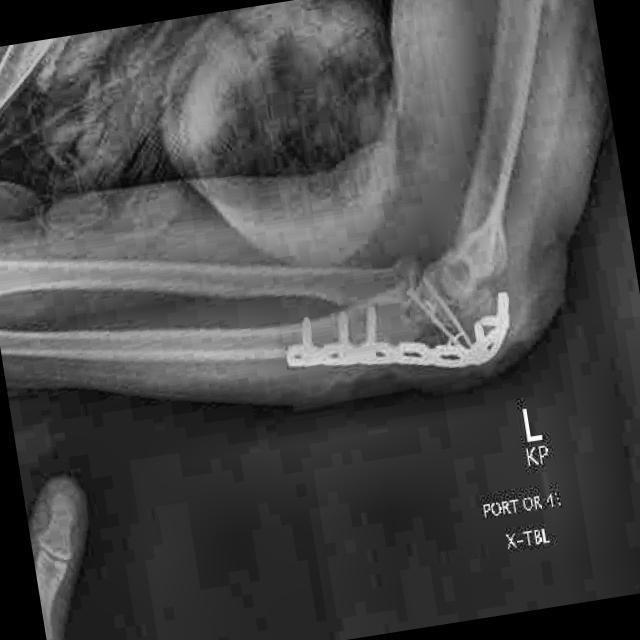elbow positive: (464, 213, 524, 294), (381, 242, 436, 317)
